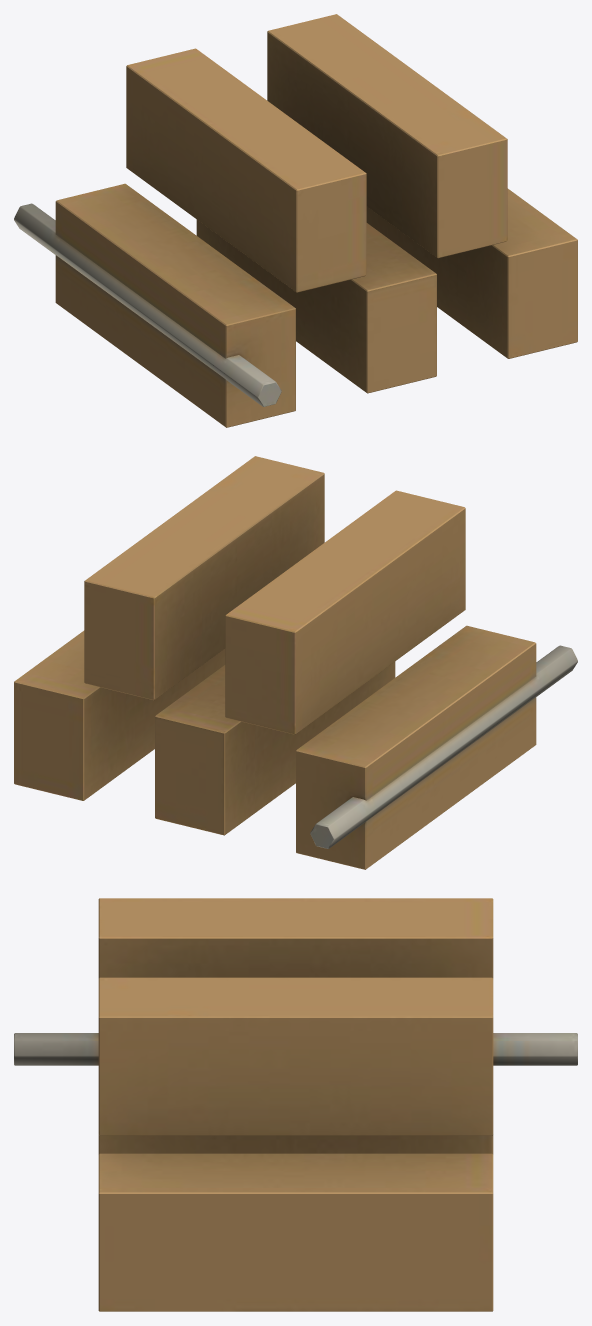
File: IT_wood_pile.glb
3 views of the same model, one above another, from view 1: azimuth 30°, elevation 25°; view 2: azimuth 150°, elevation 25°; view 3: azimuth 270°, elevation 25° (orthographic). The views are drawn at different scales.
Parts seen in each view (by area): view 1: IT_wood_pile; view 2: IT_wood_pile; view 3: IT_wood_pile.
Part boxes in pixels (x1,y1,x2,y2): IT_wood_pile: (14, 14, 577, 427); IT_wood_pile: (14, 456, 577, 869); IT_wood_pile: (14, 898, 577, 1311).
Bounding box in the file's own units: 0.5074 × 0.3 × 0.6.
1 material, 1 textured.
